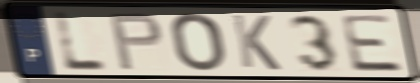3: (288, 13, 342, 73)
E: (338, 13, 407, 74)
K: (228, 12, 283, 72)
L: (53, 9, 112, 72)
O: (168, 11, 228, 73)
P: (107, 11, 166, 72)
